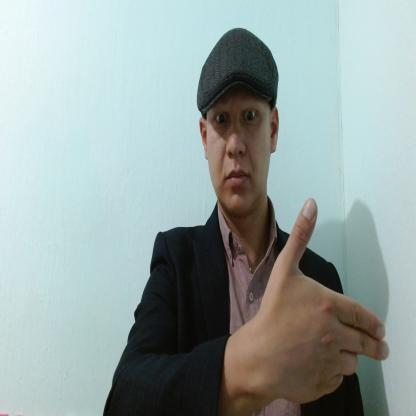H: (260, 198, 389, 404)
